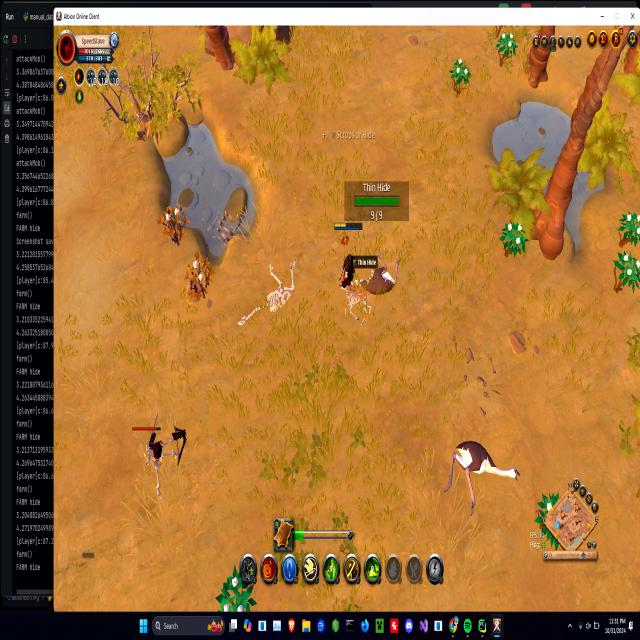hide: (217, 568, 250, 614), (158, 198, 188, 248), (186, 254, 212, 303), (535, 489, 557, 546), (614, 247, 639, 294), (500, 218, 526, 261), (620, 208, 639, 248), (451, 57, 470, 92), (496, 29, 516, 62)
mob: (446, 437, 520, 512), (350, 246, 402, 300)
ore: (130, 408, 188, 494)
red: (334, 218, 364, 295)
